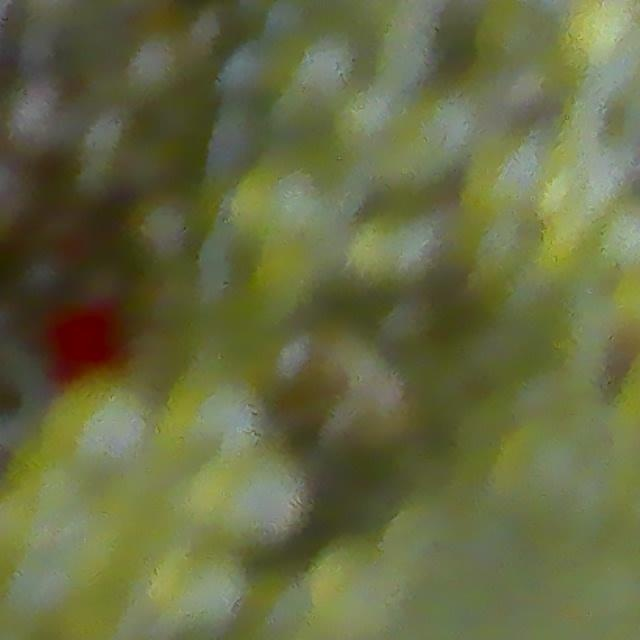SeaGrape: (40, 371, 158, 481), (210, 441, 313, 548), (8, 82, 66, 140)
